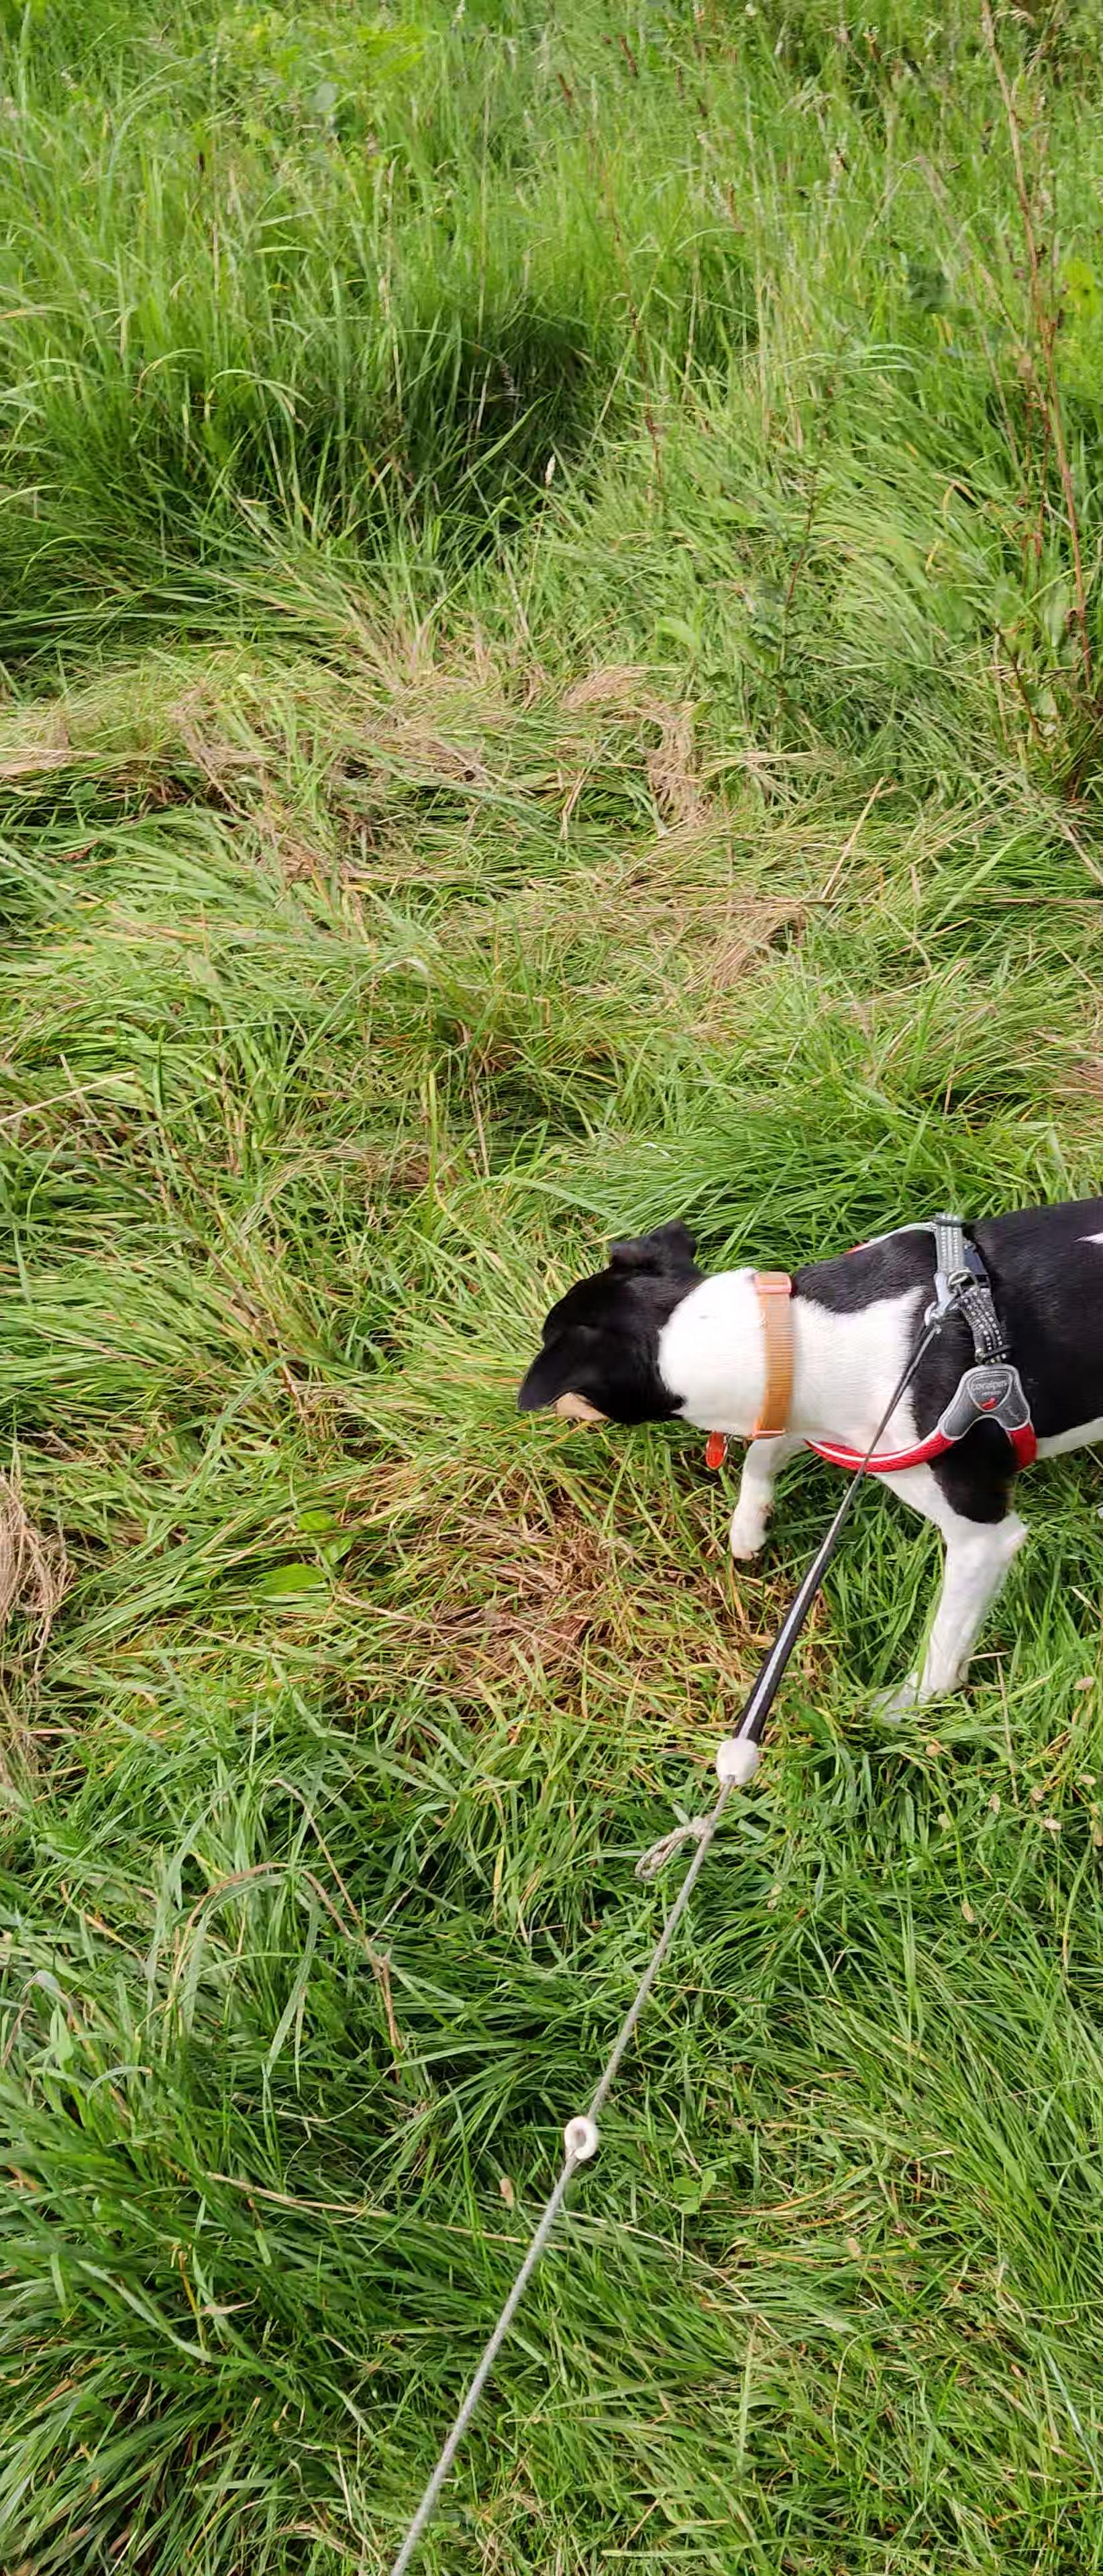Dog: (510, 1160, 1103, 1743)
